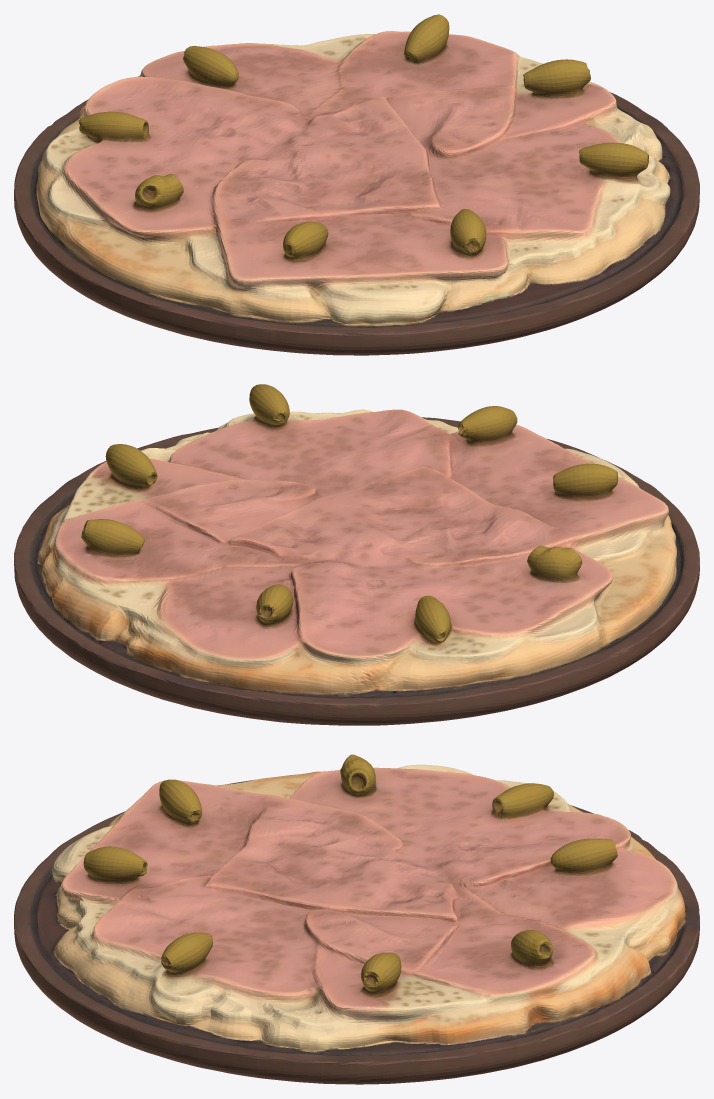
The model's file is pizzajamon.glb.
The picture shows the model from 3 angles, top to bottom: view 1: azimuth 30°, elevation 25°; view 2: azimuth 150°, elevation 25°; view 3: azimuth 270°, elevation 25°; orthographic projection.
Parts seen in each view (by area): view 1: tripo_node_781fbdeb-ba29-4966-aeaa-d581b8a15569; view 2: tripo_node_781fbdeb-ba29-4966-aeaa-d581b8a15569; view 3: tripo_node_781fbdeb-ba29-4966-aeaa-d581b8a15569.
Part boxes in pixels (x1,y1,x2,y2): tripo_node_781fbdeb-ba29-4966-aeaa-d581b8a15569: (14,14,699,355); tripo_node_781fbdeb-ba29-4966-aeaa-d581b8a15569: (14,384,699,725); tripo_node_781fbdeb-ba29-4966-aeaa-d581b8a15569: (14,754,699,1084).
Bounding box in the file's own units: 0.9998 × 0.1531 × 0.9997.
Materials: 1 (1 with a texture image).
